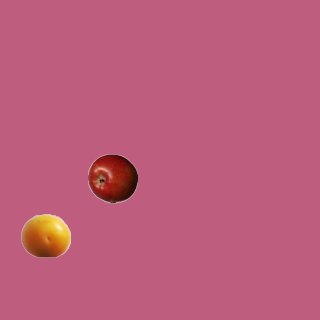Apple Braeburn: (87, 153, 137, 203)
Cherry Wax Yellow: (20, 210, 70, 260)
